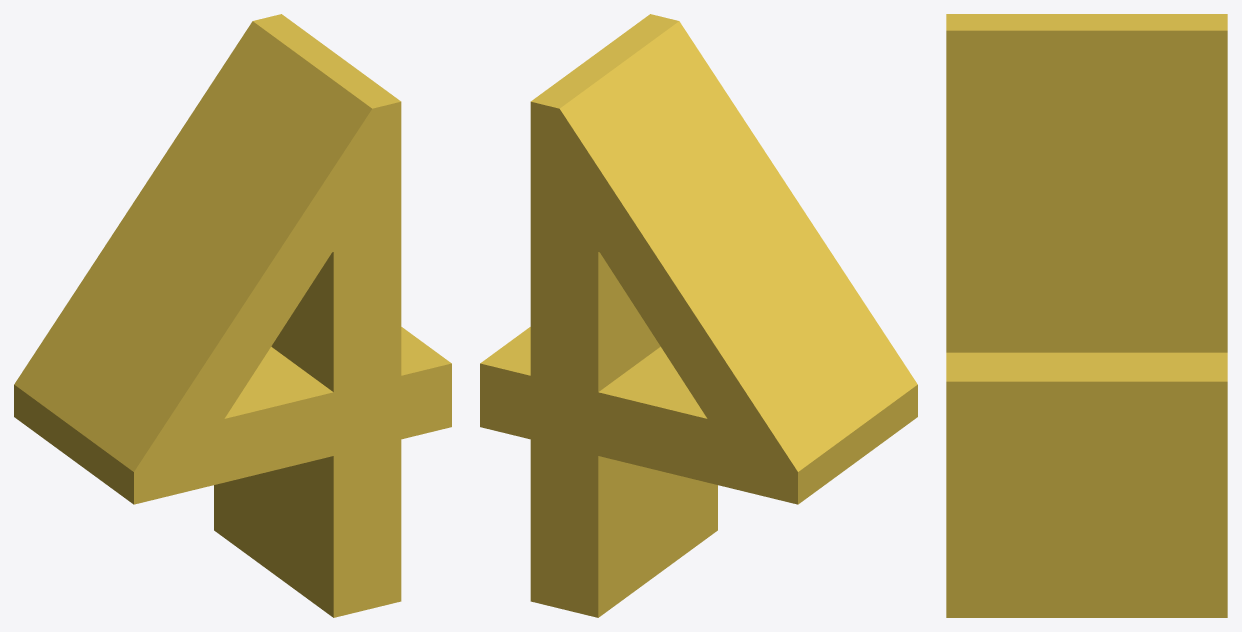
File: Mambo Numba Four.glb
The picture shows the model from 3 angles, left to right: view 1: azimuth 30°, elevation 25°; view 2: azimuth 150°, elevation 25°; view 3: azimuth 270°, elevation 25°; orthographic projection. The views are drawn at different scales.
Parts seen in each view (by area): view 1: 5; view 2: 5; view 3: 5.
Part boxes in pixels (x1,y1,x2,y2): 5: [14, 14, 451, 617]; 5: [480, 14, 917, 617]; 5: [946, 14, 1227, 617].
Size of the model in its own units: 4.6 by 6.91 by 3.
